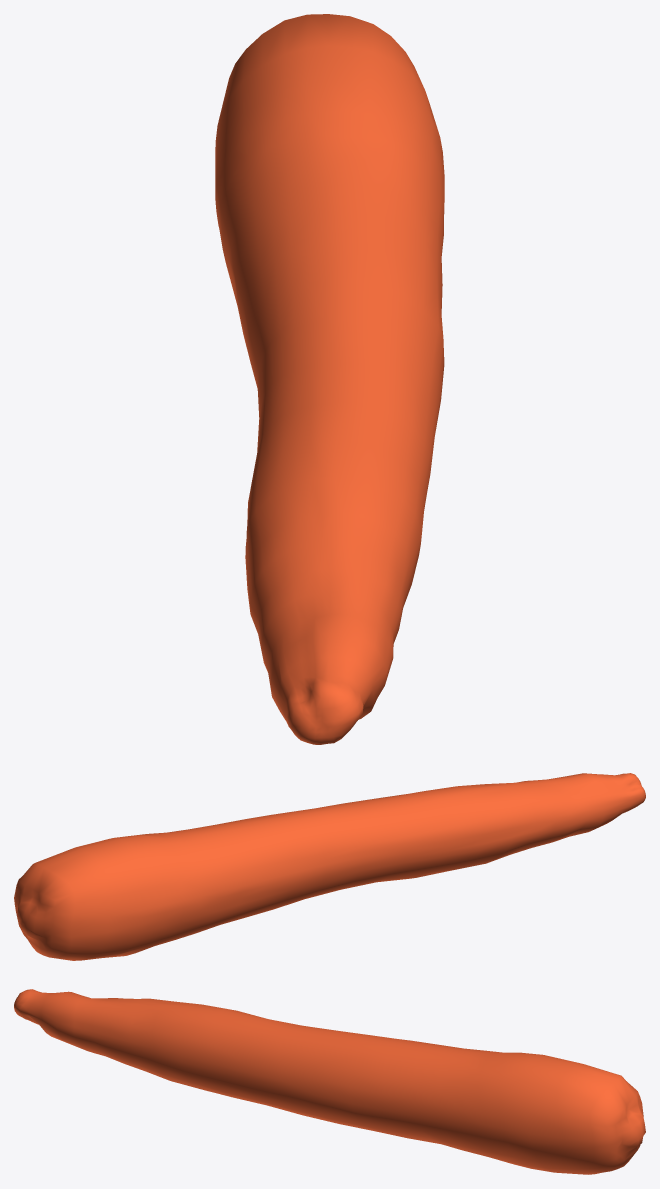
Rendered from carrot.fbx.
The picture shows the model from 3 angles, top to bottom: view 1: azimuth 30°, elevation 25°; view 2: azimuth 150°, elevation 25°; view 3: azimuth 270°, elevation 25°; orthographic projection. The views are drawn at different scales.
Parts seen in each view (by area): view 1: Carrot; view 2: Carrot; view 3: Carrot.
Part boxes in pixels (box(x1,y1,x2,y2)): Carrot: box(215, 14, 444, 744); Carrot: box(14, 773, 645, 960); Carrot: box(14, 989, 645, 1174).
Bounding box in the file's own units: 61.55 × 17.94 × 98.17.
